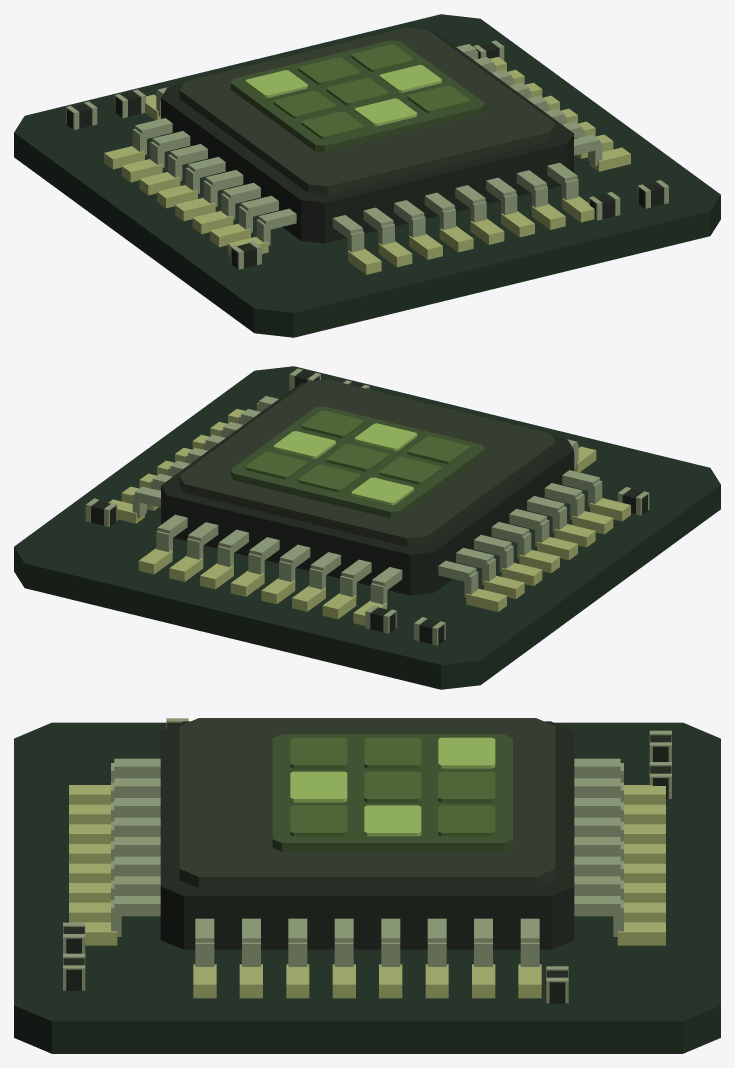
The model's file is processor.obj.
3 views of the same model, one above another, from view 1: azimuth 30°, elevation 25°; view 2: azimuth 150°, elevation 25°; view 3: azimuth 270°, elevation 25° (orthographic). The views are drawn at different scales.
Visible parts, largest first — view 1: processor; view 2: processor; view 3: processor.
Boxes of the visible parts, bbox=[...] form: processor: bbox=[14, 14, 720, 337]; processor: bbox=[14, 366, 720, 689]; processor: bbox=[14, 718, 720, 1053].
Size of the model in its own units: 3.35 by 0.623 by 3.35.
